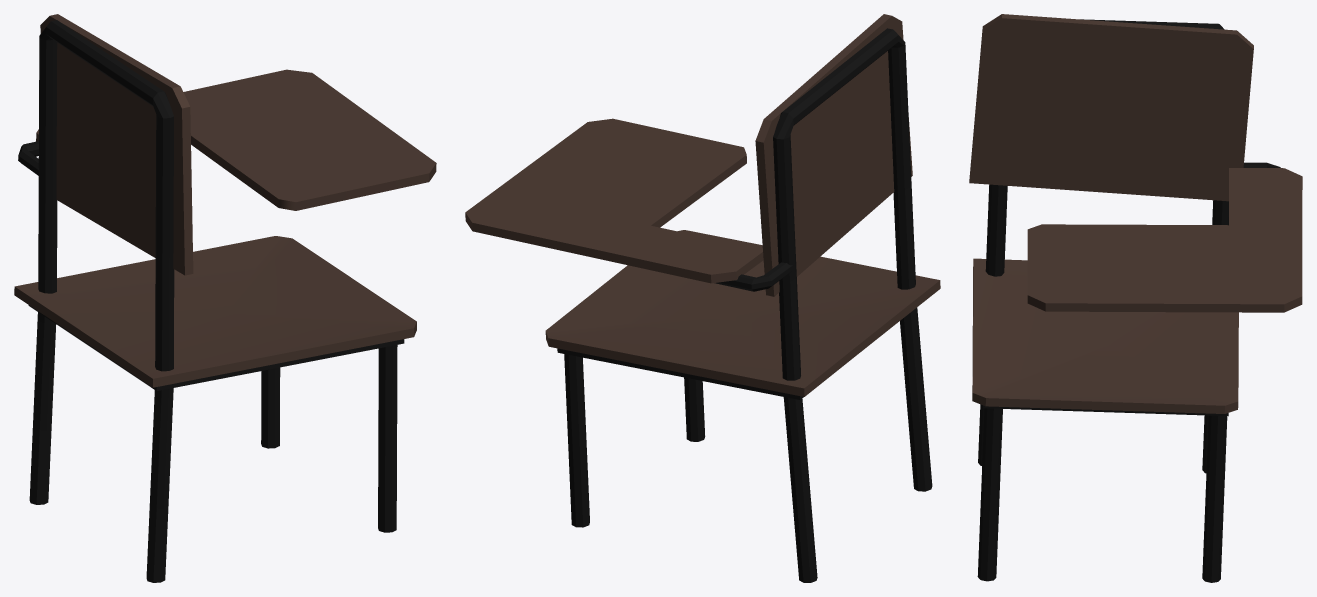
The model's file is Elements_Chair-3.fbx.
3 renders of one model, left to right at view 1: azimuth 30°, elevation 25°; view 2: azimuth 150°, elevation 25°; view 3: azimuth 270°, elevation 25°, orthographic. The views are drawn at different scales.
Parts seen in each view (by area): view 1: Seat, Table, BackSeat, BackLegs, FrontLeg_2, FrontLeg_1, Leg_Support; view 2: Seat, Table, BackSeat, BackLegs, FrontLeg_1, FrontLeg_2, Leg_Support, Arm_Support; view 3: BackSeat, Seat, Table, FrontLeg_2, BackLegs, FrontLeg_1, Leg_Support.
Boxes of the visible parts, x1,y1,x2,y2 form: Seat: (14,236,416,387); Table: (36,69,436,210); BackSeat: (40,14,193,275); BackLegs: (29,20,174,582); FrontLeg_2: (378,345,397,532); FrontLeg_1: (261,367,280,448); Leg_Support: (28,305,404,390); Seat: (545,230,940,396); Table: (465,118,763,283); BackSeat: (755,14,912,296); BackLegs: (773,28,932,582); FrontLeg_1: (564,354,589,527); FrontLeg_2: (684,377,705,441); Leg_Support: (557,348,803,399); Arm_Support: (714,262,792,291); BackSeat: (969,14,1253,201); Seat: (972,258,1238,413); Table: (1027,168,1302,312); FrontLeg_2: (977,408,1002,581); BackLegs: (978,19,1228,473); FrontLeg_1: (1202,415,1227,582); Leg_Support: (983,405,1228,416).
Bounding box in the file's own units: 38.32 × 55.54 × 35.82.
3 materials, 3 textured.
